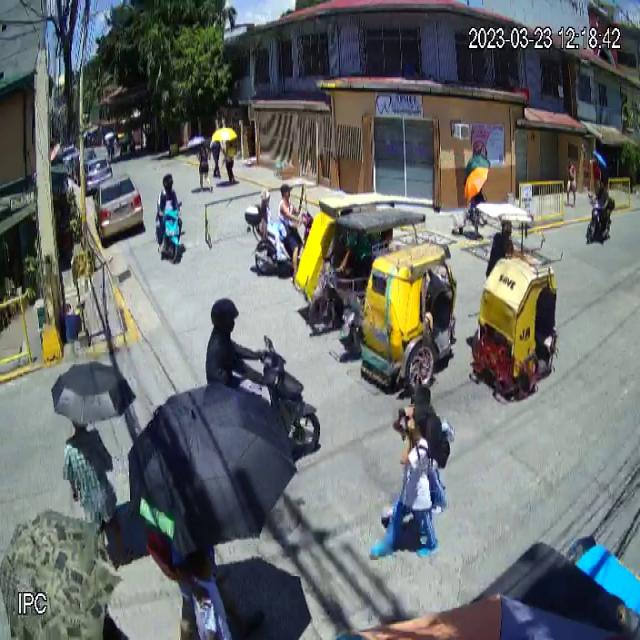Motorcycle: (155, 200, 185, 264)
Tricycle: (337, 205, 458, 392)
